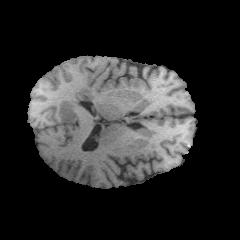glioma: (59, 83, 113, 124)
